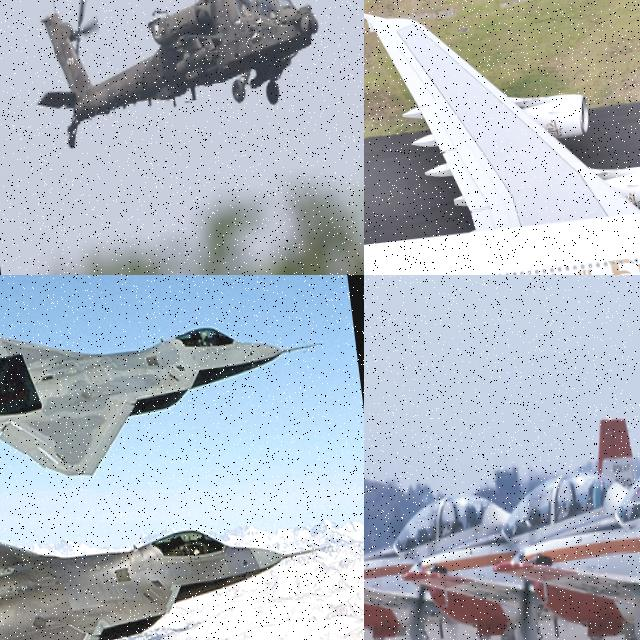A380: (364, 0, 640, 275)
Apache: (17, 0, 364, 152)
F22: (0, 275, 338, 508), (0, 436, 348, 640)
KT-1: (384, 398, 640, 640), (499, 358, 640, 640), (364, 469, 533, 640)
